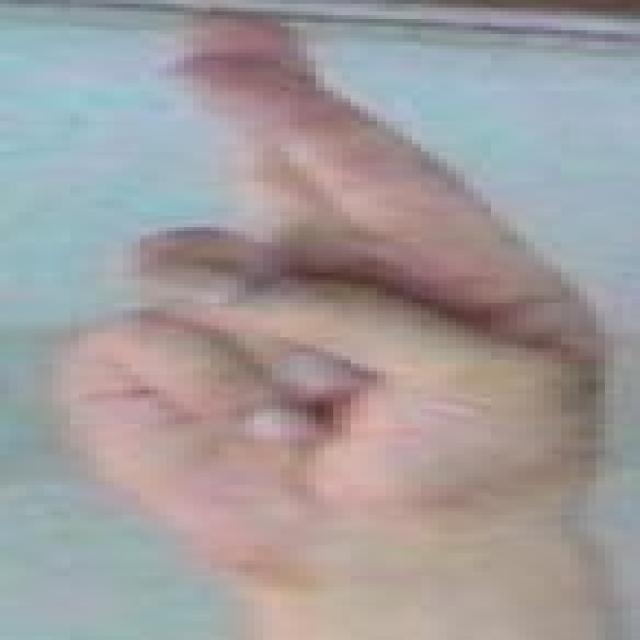R: (12, 5, 640, 570)
